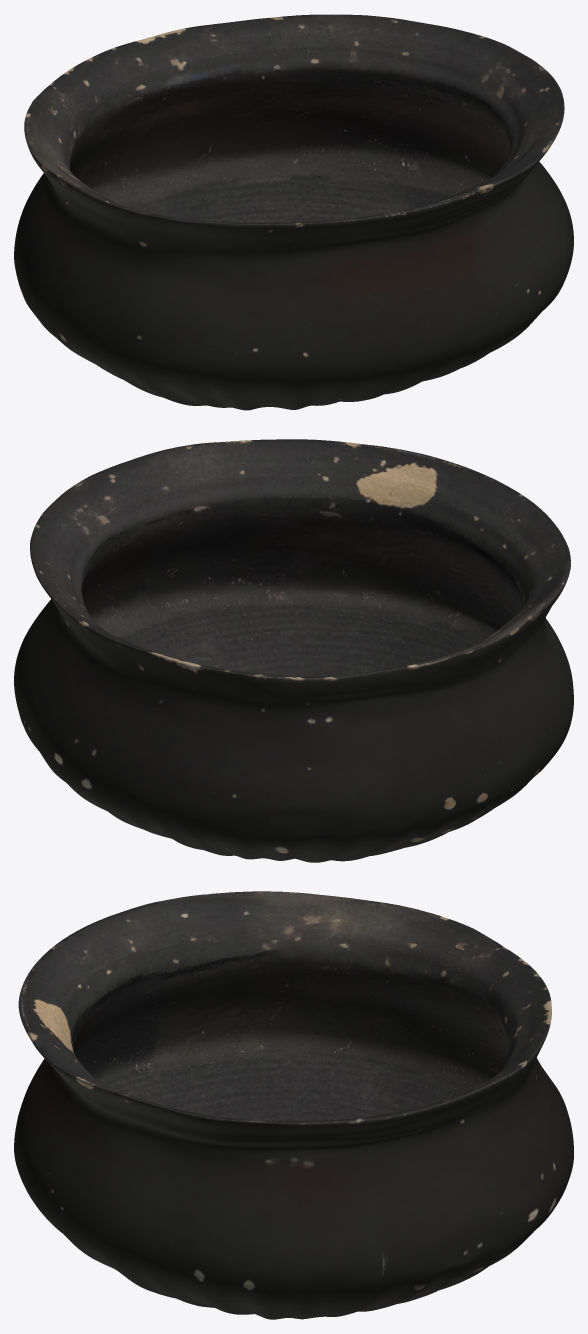
The model's file is vase.glb.
3 views of the same model, one above another, from view 1: azimuth 30°, elevation 25°; view 2: azimuth 150°, elevation 25°; view 3: azimuth 270°, elevation 25° (orthographic). The views are drawn at different scales.
Bounding box in the file's own units: 1.9 × 0.9639 × 1.81.
Materials: 1 (1 with a texture image).
